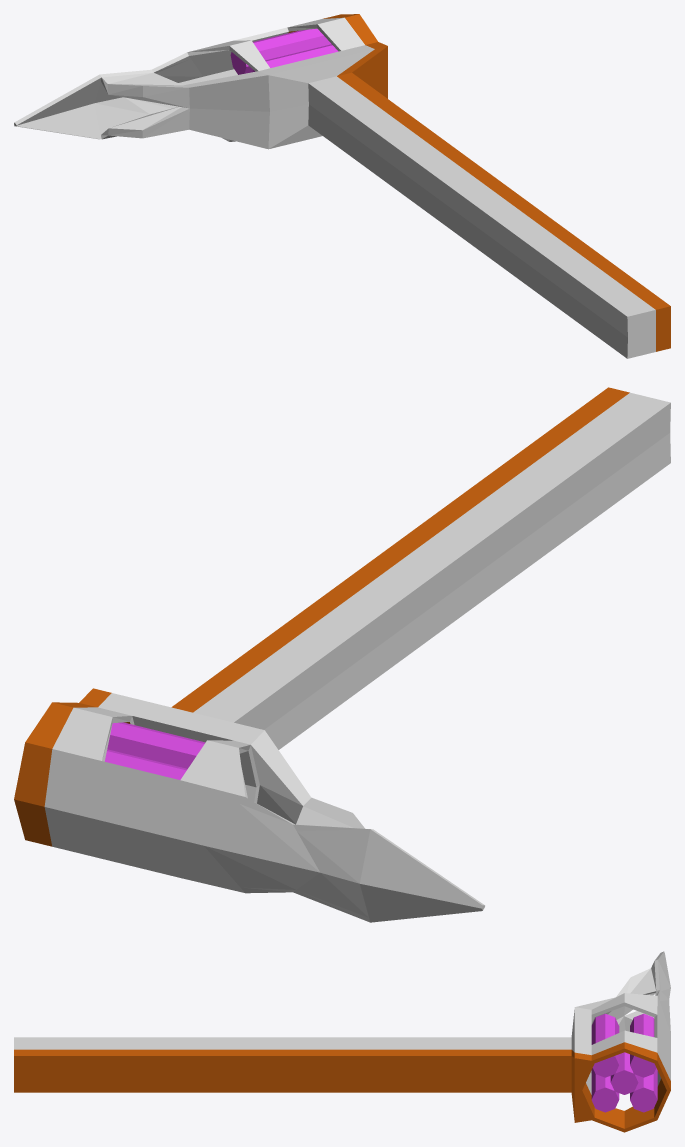
Rendered from hammer.fbx.
The picture shows the model from 3 angles, top to bottom: view 1: azimuth 30°, elevation 25°; view 2: azimuth 150°, elevation 25°; view 3: azimuth 270°, elevation 25°; orthographic projection. The views are drawn at different scales.
Visible parts, largest first — view 1: 圆柱_1, 圆柱_0_1; view 2: 圆柱_1, 圆柱_0_1; view 3: 圆柱_1, 圆柱_0_1.
Boxes of the visible parts, box(x1,y1,x2,y2) form: 圆柱_1: box(14, 14, 670, 358); 圆柱_0_1: box(230, 28, 338, 74); 圆柱_1: box(14, 387, 670, 922); 圆柱_0_1: box(105, 722, 205, 779); 圆柱_1: box(14, 951, 670, 1132); 圆柱_0_1: box(591, 1013, 657, 1112).
Size of the model in its own units: 385 by 110 by 777.
